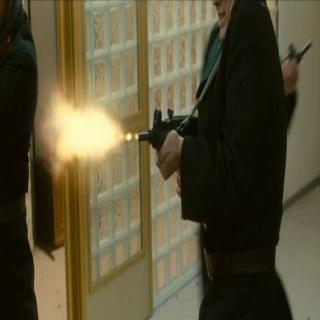gun: (132, 87, 203, 173)
